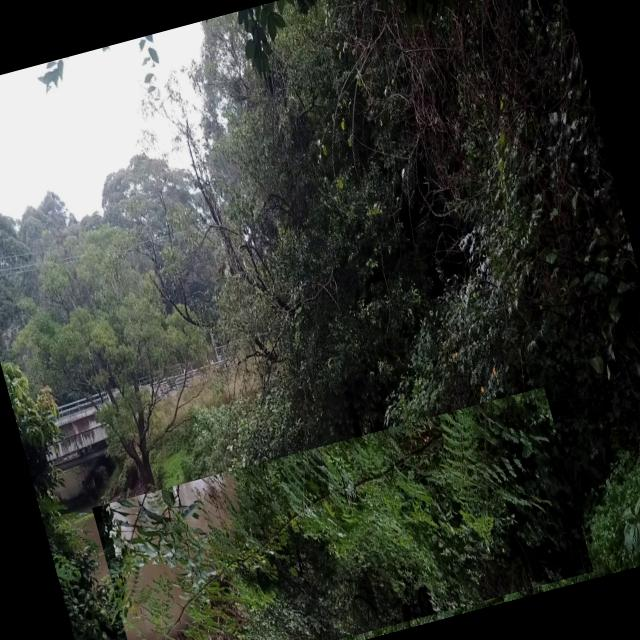Mysore-Thorn-Weed: (92, 386, 593, 640)
